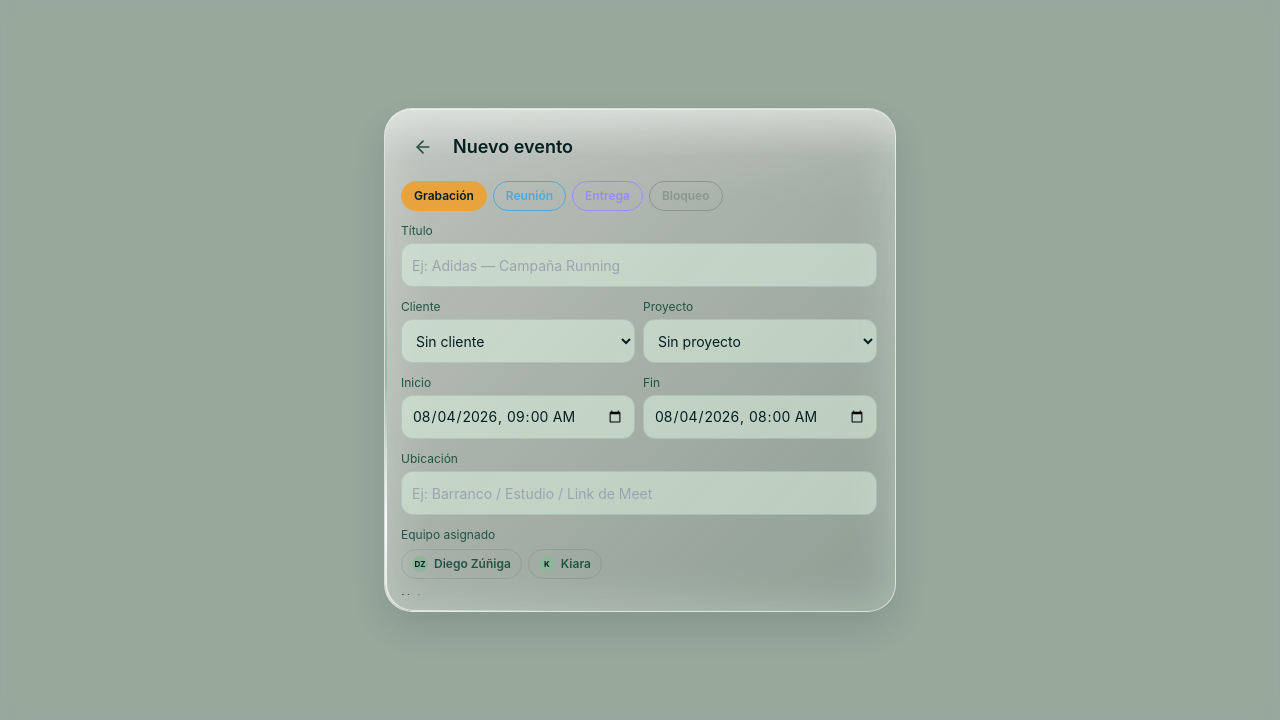
Test case: CalendarEventEditor › blocks saving when the end time is not after the start time
Type "Evento" into the field labelled "Título".
click(639, 265); type("Evento")  # box [401,243,877,287]
(page scrolled)
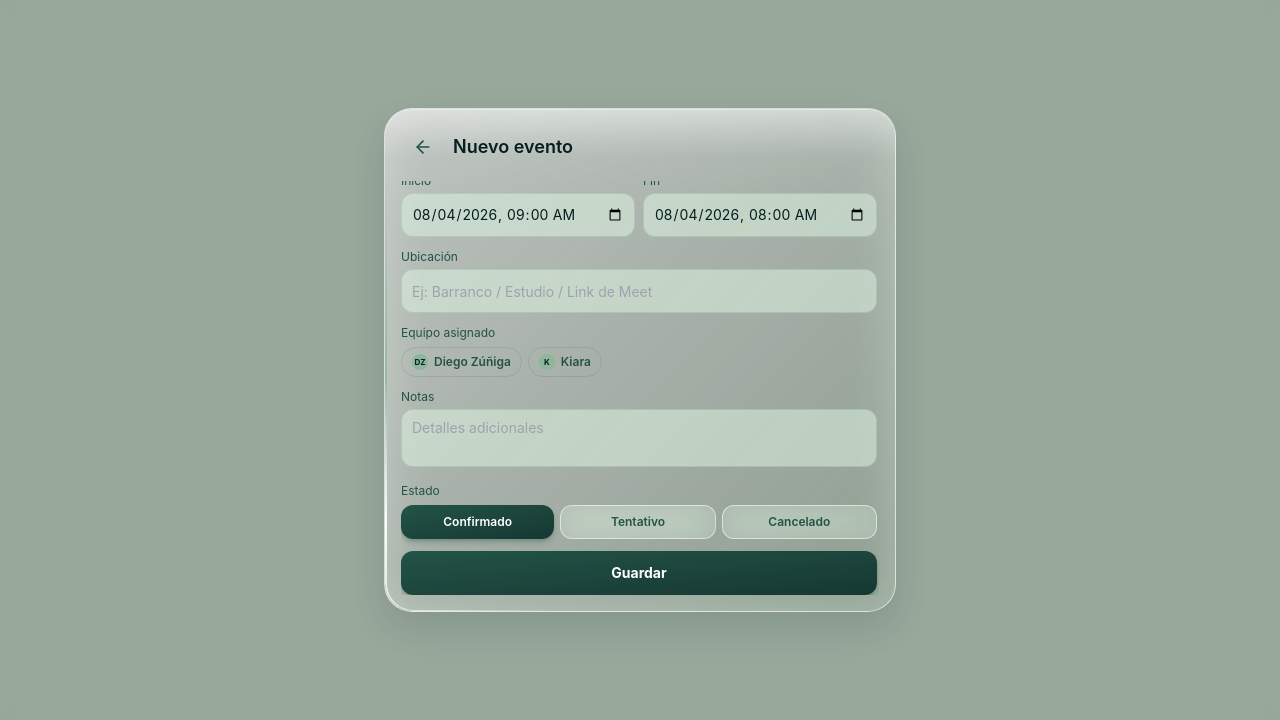
Click the button "Guardar".
click(639, 573)  # box [401,551,877,595]
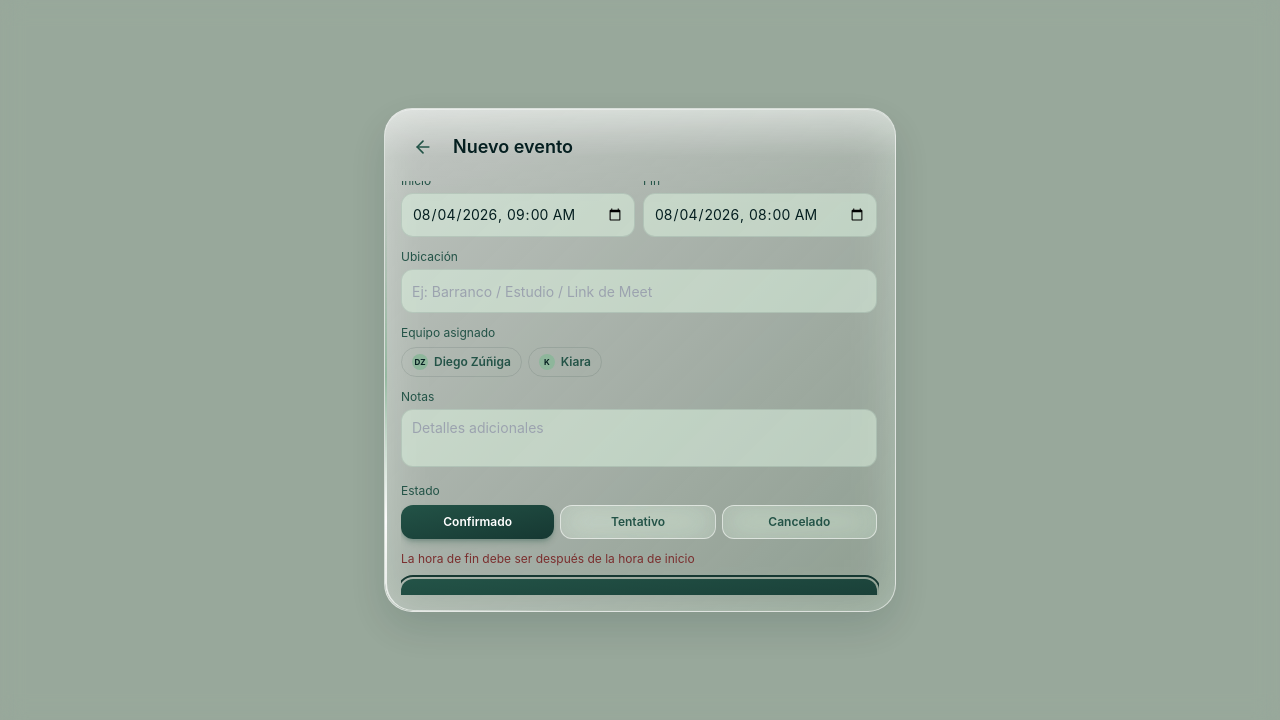
Check: the text "La hora de fin debe ser después de la hora de inicio" is shown, box [401,551,695,566]
